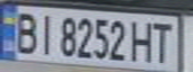2: (109, 16, 130, 62), (75, 15, 93, 60)
5: (90, 15, 112, 61)
8: (54, 12, 78, 57)
B: (9, 8, 42, 55)
H: (127, 18, 157, 63)
I: (33, 10, 57, 56)
T: (148, 18, 175, 64)
